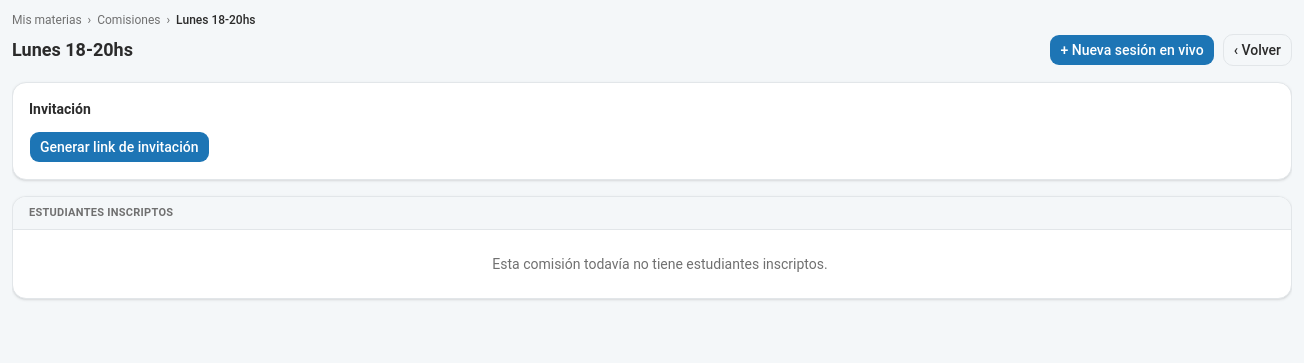
ComisionDetalleDocente › muestra un mensaje de error si el docente no está asignado (422)
Expected: the heading "Lunes 18-20hs" is shown, 12,36 -> 133,64
Click the button "Generar link de invitación".
click(119, 147)  # box 29,131 -> 210,163
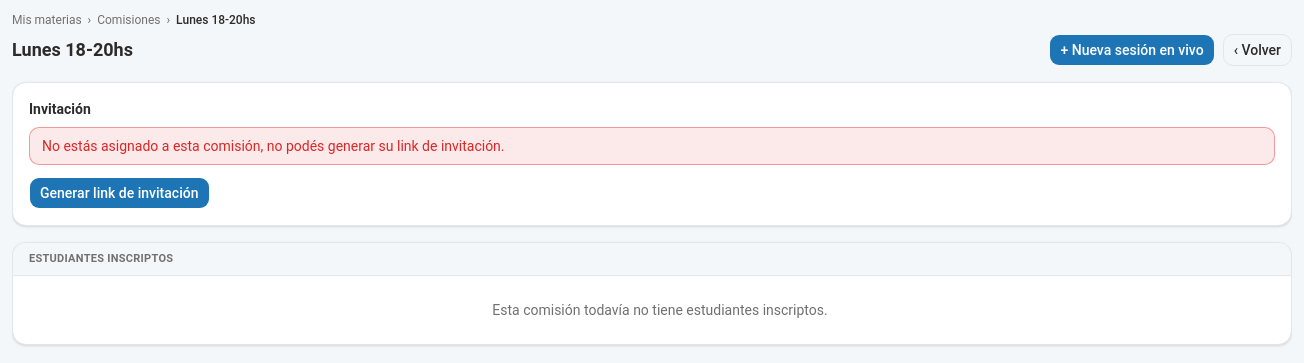
Result: the text "No estás asignado a esta comisión, no podés generar su link de invitación." is shown at 29,127 -> 1275,165
